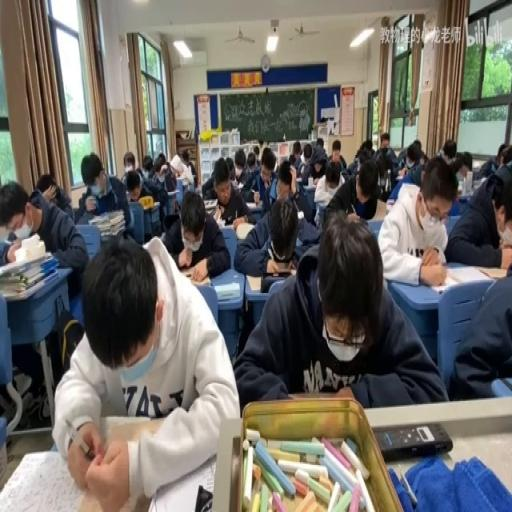calculator: (0, 449, 88, 512), (150, 451, 220, 512), (242, 270, 290, 292), (443, 266, 488, 287), (180, 262, 209, 283), (214, 282, 240, 300), (234, 219, 256, 240), (368, 198, 387, 219), (203, 196, 218, 212), (470, 176, 484, 192), (213, 205, 222, 222), (245, 201, 261, 209), (300, 181, 315, 189), (386, 199, 395, 212), (166, 189, 178, 196), (149, 199, 159, 206), (395, 172, 405, 179), (297, 209, 304, 218), (236, 181, 243, 189), (294, 176, 301, 184)
paper: (54, 230, 240, 506), (230, 210, 442, 410), (2, 176, 88, 410), (450, 258, 511, 400), (442, 161, 512, 267), (162, 189, 228, 283), (78, 150, 132, 234), (323, 155, 382, 229), (265, 154, 317, 223), (124, 158, 170, 232), (34, 171, 72, 219), (473, 144, 511, 182), (371, 132, 398, 182), (386, 172, 414, 203), (238, 164, 262, 198), (325, 138, 347, 173), (181, 151, 197, 186), (201, 166, 218, 198), (454, 150, 472, 180), (406, 162, 425, 188), (261, 145, 276, 174), (347, 148, 363, 175), (308, 144, 326, 168), (440, 138, 456, 162), (140, 154, 154, 176), (153, 152, 166, 174), (163, 171, 176, 192), (122, 151, 134, 172), (290, 141, 300, 165), (396, 148, 408, 168), (226, 156, 235, 182), (128, 184, 141, 200), (411, 139, 422, 155), (245, 152, 255, 168), (418, 149, 428, 165), (362, 138, 373, 151), (408, 154, 417, 168), (316, 136, 323, 150), (304, 144, 310, 160), (173, 200, 179, 214)
person: (373, 420, 453, 460)
